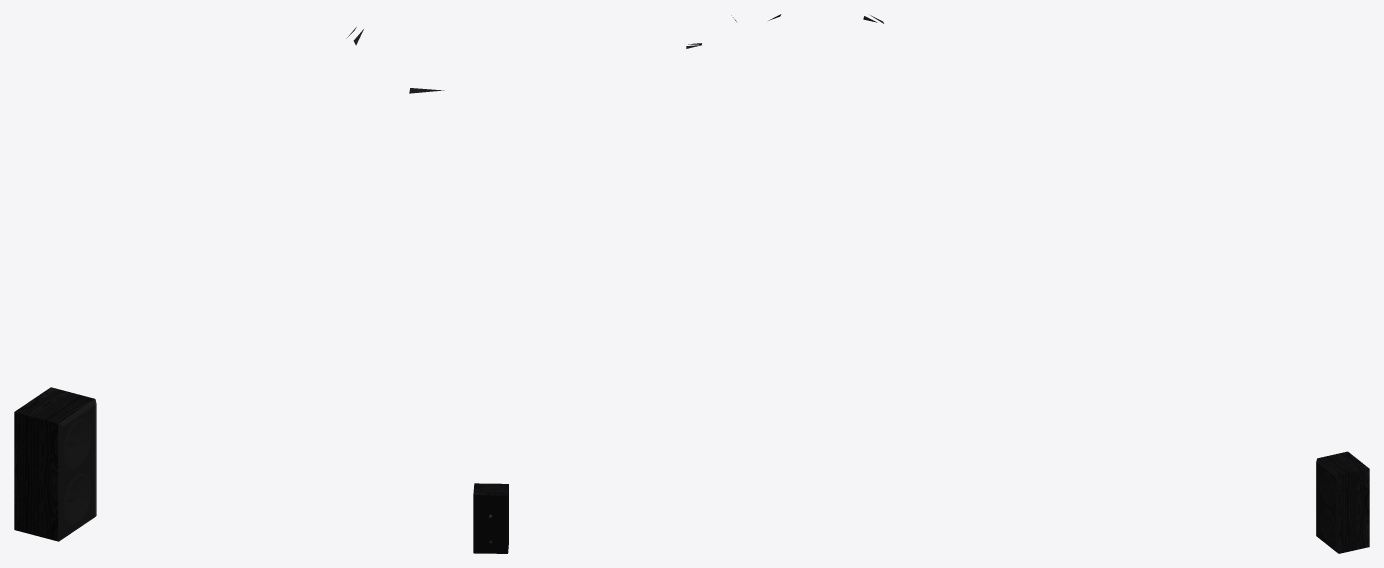
File: uploads_files_5216065_Speakers.gltf
3 views of the same model, side by side, from view 1: azimuth 30°, elevation 25°; view 2: azimuth 150°, elevation 25°; view 3: azimuth 270°, elevation 25° (orthographic). The views are drawn at different scales.
Visible parts, largest first — view 1: Lautsprecher_Material #2_0.018; view 2: Lautsprecher_Material #2_0.018; view 3: Lautsprecher_Material #2_0.018.
Boxes of the visible parts, x1,y1,x2,y2 form: Lautsprecher_Material #2_0.018: [14, 387, 96, 541]; Lautsprecher_Material #2_0.018: [473, 483, 508, 553]; Lautsprecher_Material #2_0.018: [1316, 451, 1369, 553].
Bounding box in the file's own units: 2.36 × 16.21 × 17.46.
4 materials, 2 textured.
